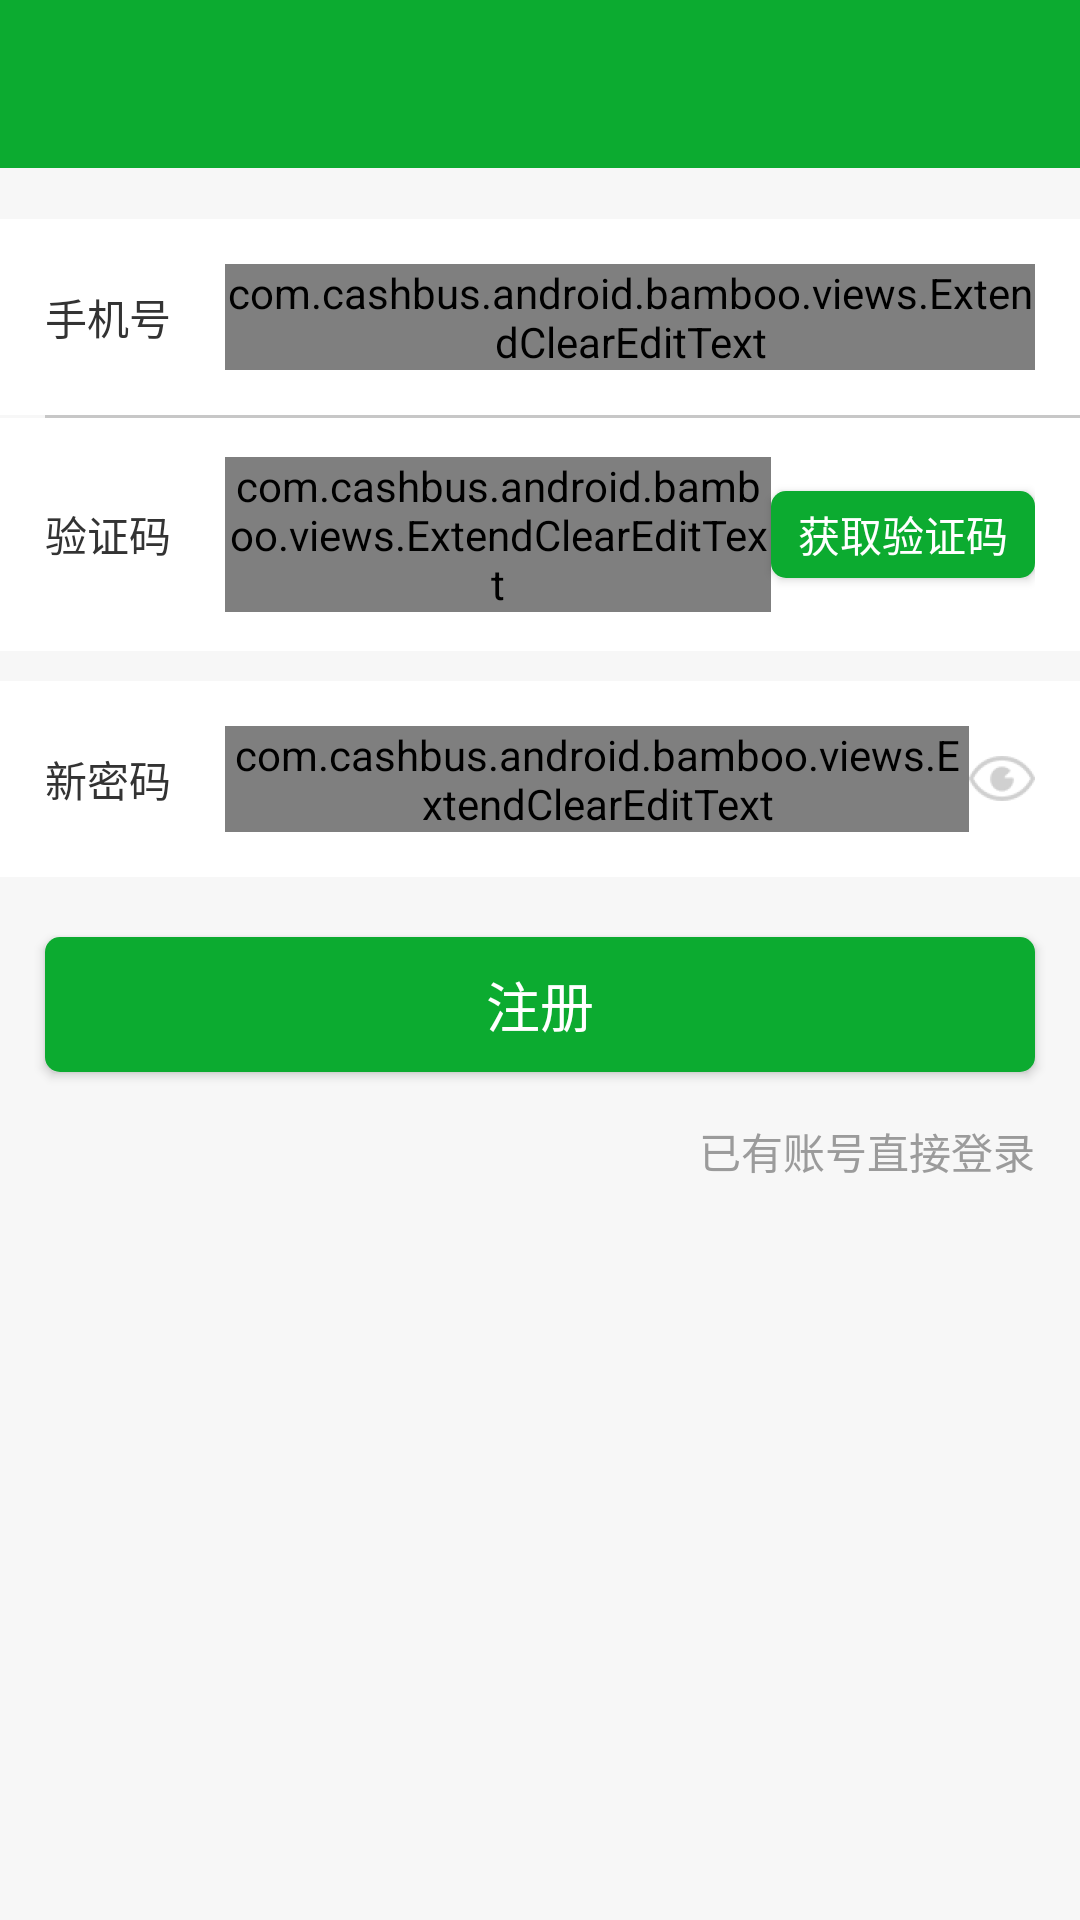

Icon click points for this 1080x1920 phone screenshot, format point (x, y):
eye: point (1002, 778)
